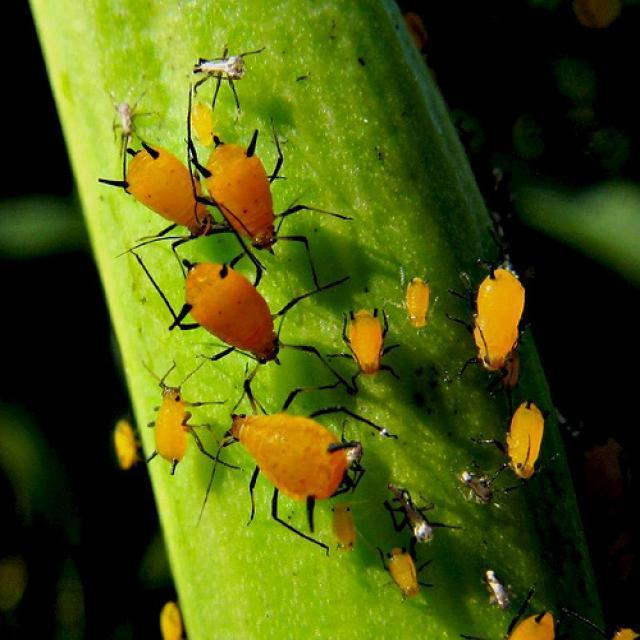aphid: (231, 413, 361, 501), (182, 262, 278, 362), (205, 130, 275, 248), (126, 143, 212, 234), (474, 268, 525, 370), (155, 387, 190, 474), (506, 402, 544, 478), (348, 309, 382, 374), (112, 419, 142, 470), (389, 547, 419, 596), (508, 612, 554, 639), (406, 277, 430, 327), (332, 503, 357, 550), (191, 100, 215, 147)
